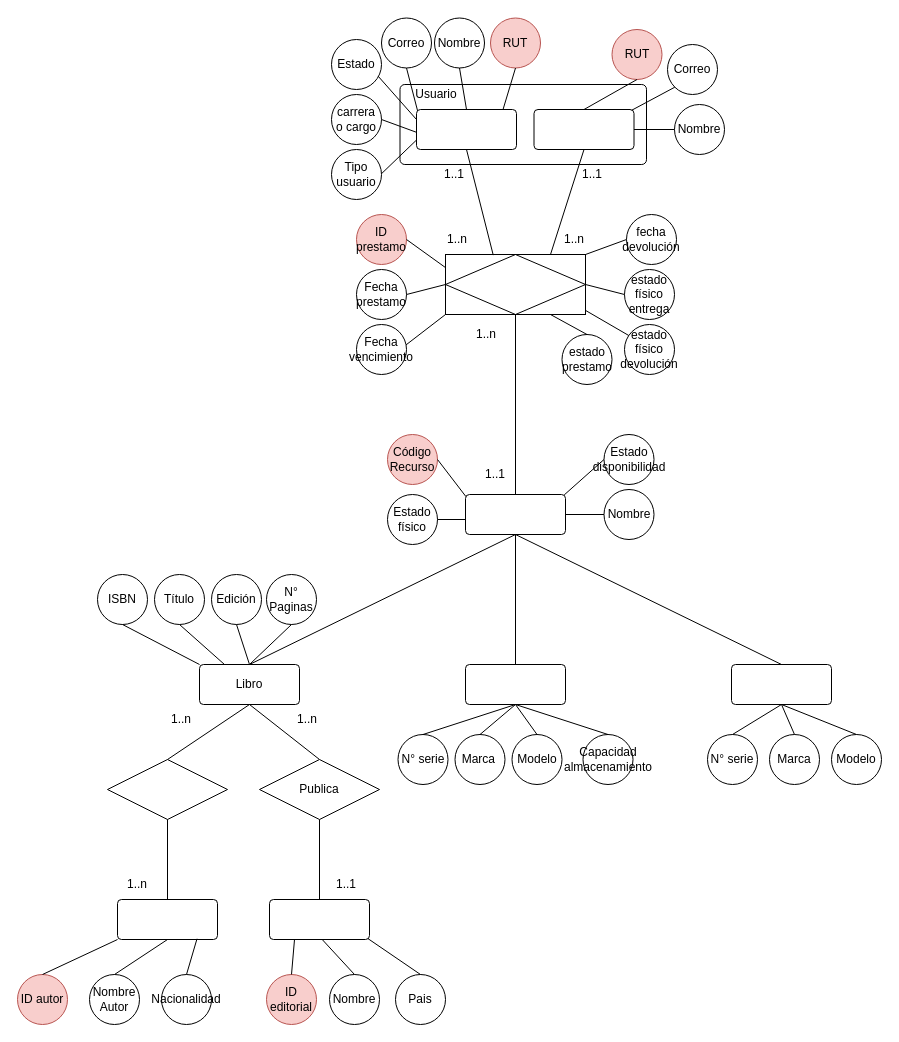
The diagram is 899 pixels wide and 1042 high, and some of its shapes have lost their labels. The shapes that lost their labels are listed below. From the top down, each one's centre as x and y in pixels, then its label:
At [466,129]: "Lector".
At [583,129]: "Bibliotecaria".
At [515,284]: "Prestamo".
At [515,514]: "Recurso".
At [515,684]: "Tablet".
At [781,684]: "Calculadora".
At [167,789]: "Escribe".
At [167,919]: "Autor".
At [319,919]: "Editorial".
